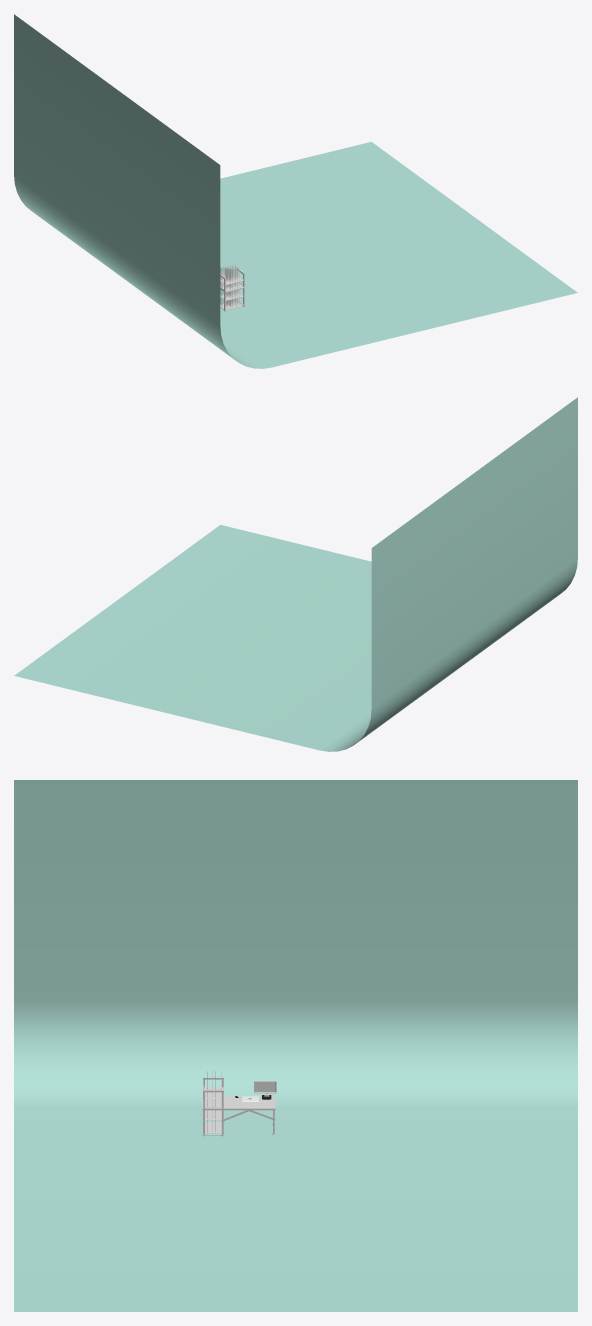
Rendered from table.fbx.
The picture shows the model from 3 angles, top to bottom: view 1: azimuth 30°, elevation 25°; view 2: azimuth 150°, elevation 25°; view 3: azimuth 270°, elevation 25°; orthographic projection. The views are drawn at different scales.
Visible parts, largest first — view 1: Plane, monitor; view 2: Plane; view 3: Plane, monitor.
Boxes of the visible parts, <box> form: Plane: <box>14,14,577,368</box>; monitor: <box>220,268,244,311</box>; Plane: <box>14,397,577,751</box>; Plane: <box>14,780,577,1311</box>; monitor: <box>202,1077,276,1136</box>.
Size of the model in its own units: 3942 by 2322 by 3942.
